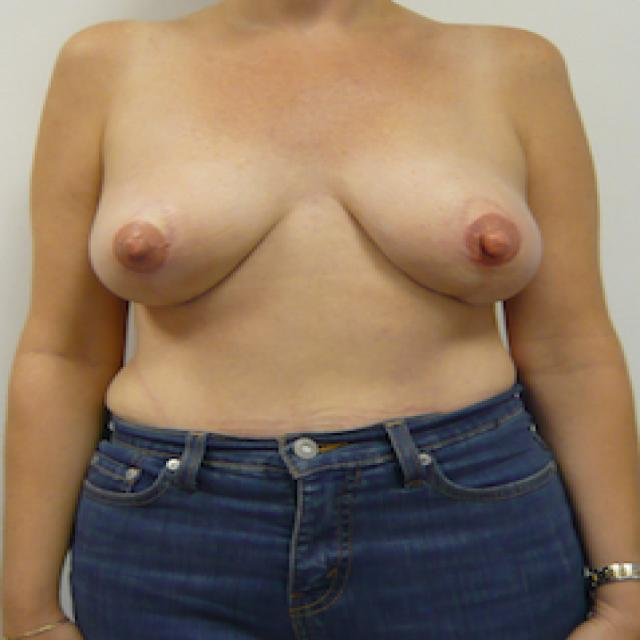Seno herido: (317, 108, 553, 323), (77, 108, 308, 322)
